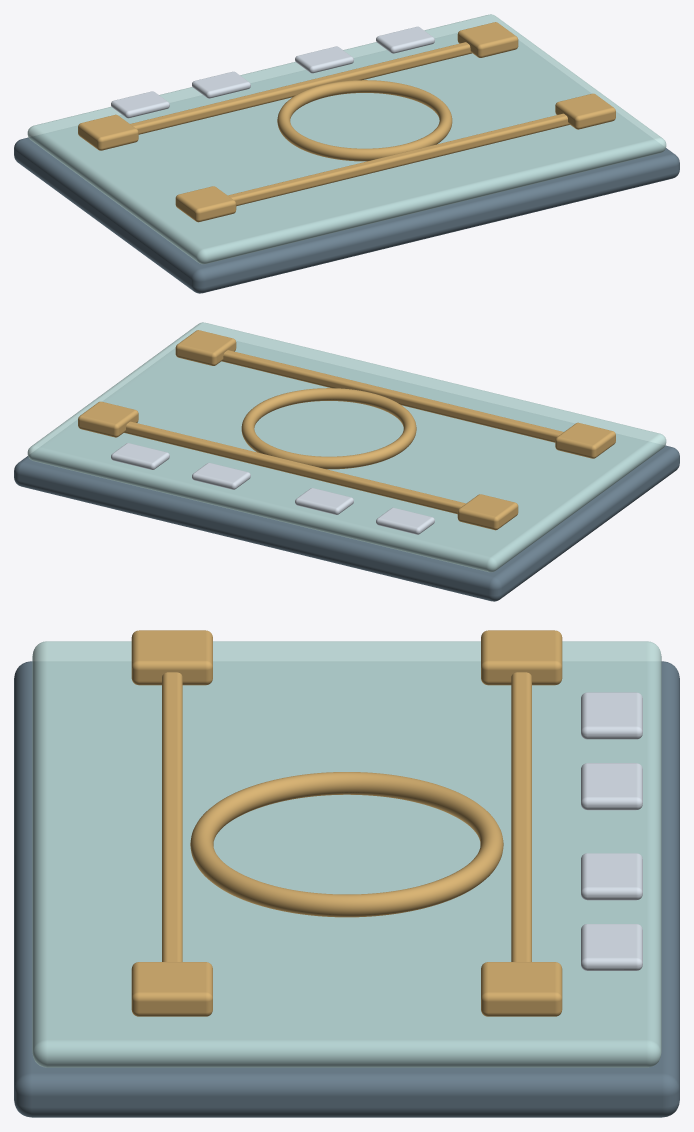
Rendered from 光子芯片.glb.
3 renders of one model, top to bottom at view 1: azimuth 30°, elevation 25°; view 2: azimuth 150°, elevation 25°; view 3: azimuth 270°, elevation 25°, orthographic. The views are drawn at different scales.
Visible parts, largest first — view 1: 二氧化硅包层, 硅基底, 微环谐振器, 输入总线波导, 输出总线波导, 耦合端口 2, 耦合端口 1, 耦合端口 3, 耦合端口 4, 接触焊盘 4, 接触焊盘 1, 接触焊盘 2 (+1 smaller); view 2: 二氧化硅包层, 硅基底, 微环谐振器, 输出总线波导, 输入总线波导, 耦合端口 1, 耦合端口 2, 耦合端口 4, 耦合端口 3, 接触焊盘 1, 接触焊盘 2, 接触焊盘 4 (+1 smaller); view 3: 二氧化硅包层, 硅基底, 微环谐振器, 输入总线波导, 输出总线波导, 耦合端口 3, 耦合端口 4, 耦合端口 1, 耦合端口 2, 接触焊盘 1, 接触焊盘 3, 接触焊盘 2 (+1 smaller).
Boxes of the visible parts, box(x1,y1,x2,y2) form: 二氧化硅包层: box(27, 14, 666, 264); 硅基底: box(14, 137, 679, 293); 微环谐振器: box(277, 80, 452, 161); 输入总线波导: box(228, 113, 569, 206); 输出总线波导: box(130, 42, 471, 134); 耦合端口 2: box(175, 186, 236, 222); 耦合端口 1: box(78, 114, 138, 150); 耦合端口 3: box(457, 22, 518, 57); 耦合端口 4: box(555, 93, 615, 129); 接触焊盘 4: box(376, 26, 434, 53); 接触焊盘 1: box(111, 91, 169, 118); 接触焊盘 2: box(192, 71, 250, 98); 二氧化硅包层: box(27, 322, 666, 572); 硅基底: box(14, 445, 679, 601); 微环谐振器: box(241, 388, 416, 469); 输出总线波导: box(124, 421, 465, 514); 输入总线波导: box(222, 350, 563, 442); 耦合端口 1: box(457, 494, 518, 530); 耦合端口 2: box(555, 422, 615, 458); 耦合端口 4: box(175, 330, 236, 365); 耦合端口 3: box(78, 401, 138, 437); 接触焊盘 1: box(376, 507, 434, 534); 接触焊盘 2: box(295, 488, 353, 514); 接触焊盘 4: box(111, 443, 169, 469); 二氧化硅包层: box(32, 641, 661, 1067); 硅基底: box(14, 661, 679, 1117); 微环谐振器: box(190, 772, 503, 917); 输入总线波导: box(162, 672, 182, 961); 输出总线波导: box(511, 672, 531, 961); 耦合端口 3: box(481, 962, 562, 1016); 耦合端口 4: box(131, 962, 212, 1016); 耦合端口 1: box(481, 630, 562, 685); 耦合端口 2: box(131, 630, 212, 685); 接触焊盘 1: box(581, 692, 642, 739); 接触焊盘 3: box(581, 853, 642, 900); 接触焊盘 2: box(581, 763, 642, 810).
Size of the model in its own units: 6.8 by 0.74 by 4.5.
